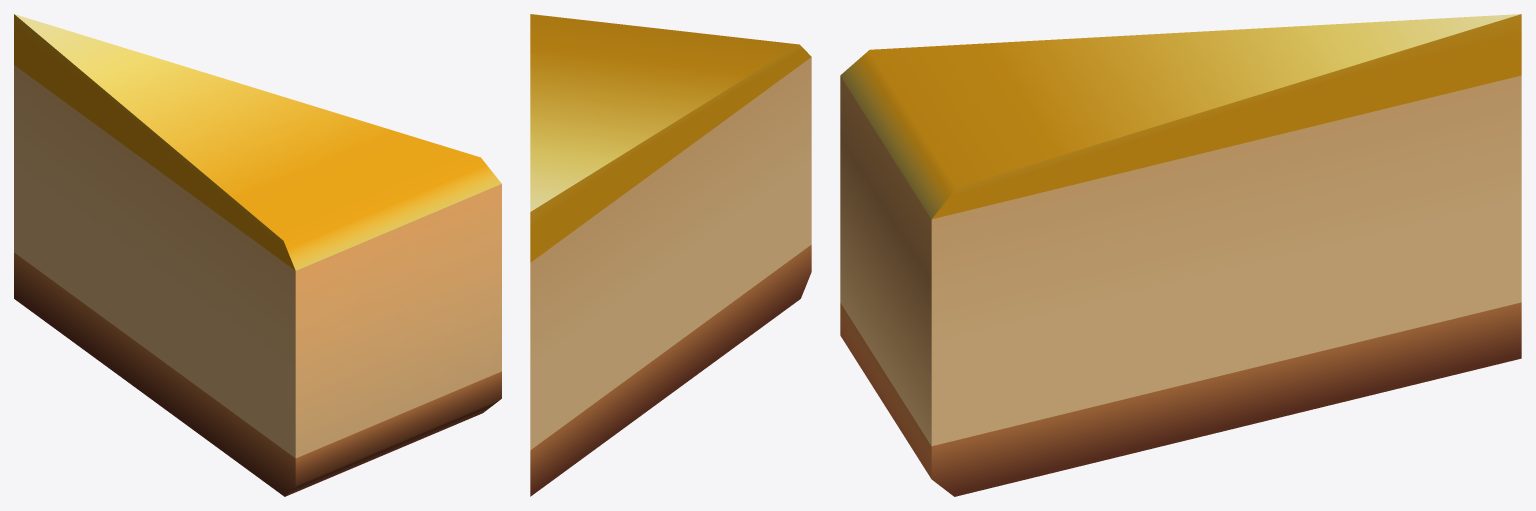
The model's file is m_CheeseCake05_Slice.fbx.
The picture shows the model from 3 angles, left to right: view 1: azimuth 30°, elevation 25°; view 2: azimuth 150°, elevation 25°; view 3: azimuth 270°, elevation 25°; orthographic projection. The views are drawn at different scales.
Parts seen in each view (by area): view 1: m_CheeseCake05_Slice; view 2: m_CheeseCake05_Slice; view 3: m_CheeseCake05_Slice.
Part boxes in pixels (<box>): m_CheeseCake05_Slice: <box>14,14,501,496</box>; m_CheeseCake05_Slice: <box>530,14,811,496</box>; m_CheeseCake05_Slice: <box>840,14,1521,496</box>.
Bounding box in the file's own units: 7 × 7.81 × 14.
